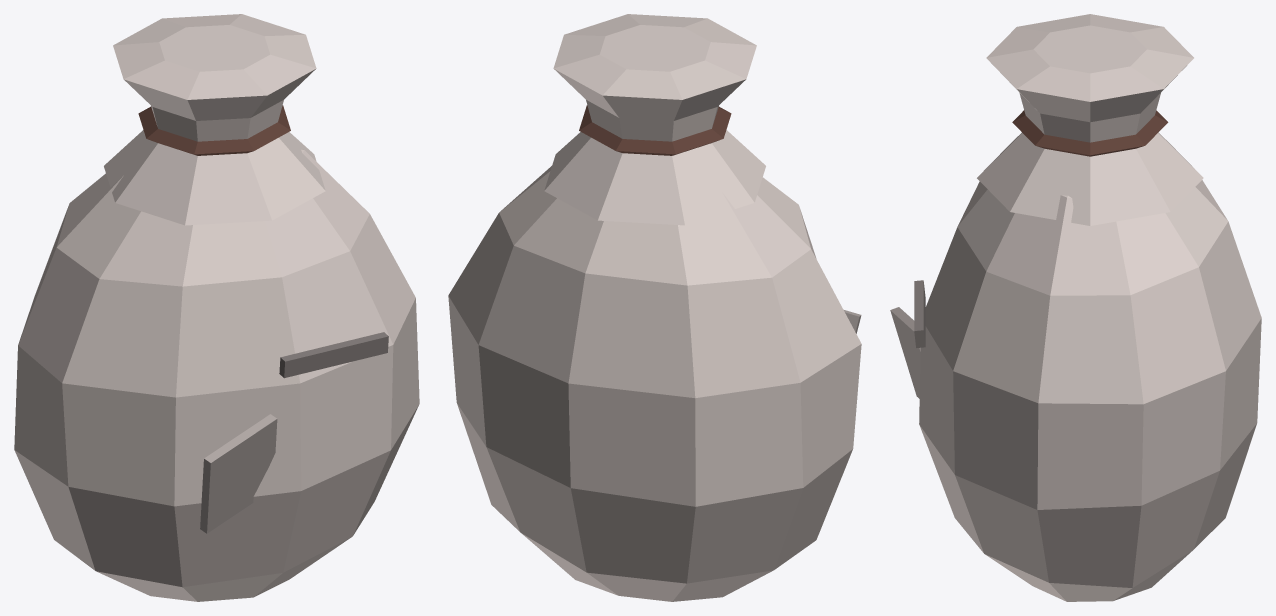
The model's file is sack.glb.
The picture shows the model from 3 angles, left to right: view 1: azimuth 30°, elevation 25°; view 2: azimuth 150°, elevation 25°; view 3: azimuth 270°, elevation 25°; orthographic projection.
Parts seen in each view (by area): view 1: sack-m; view 2: sack-m; view 3: sack-m.
Boxes of the visible parts, x1,y1,x2,y2 form: sack-m: (14,14,419,601); sack-m: (448,14,861,601); sack-m: (890,14,1261,601).
Size of the model in its own units: 0.8666 by 1.2 by 0.785.
